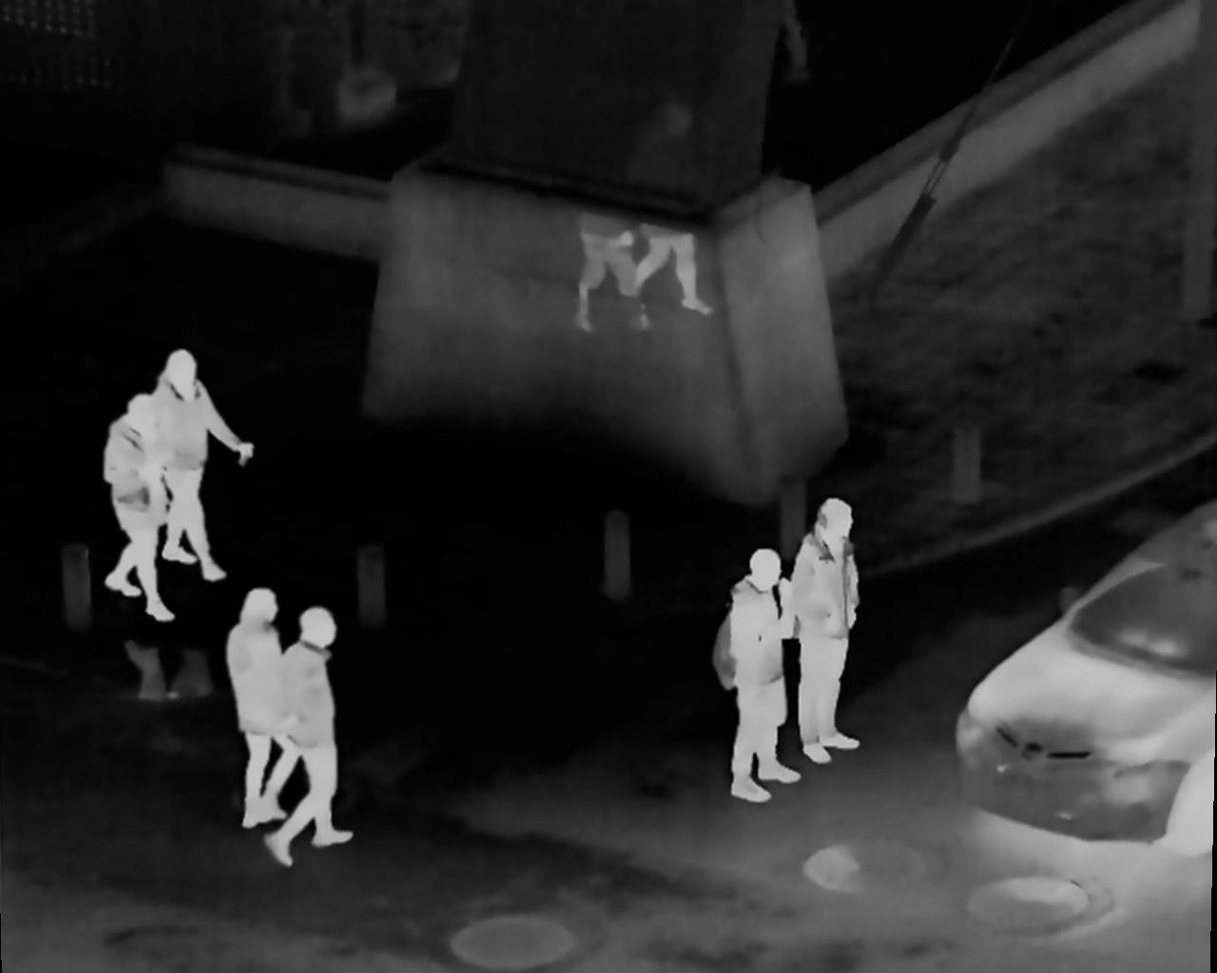person: (786, 488, 869, 756), (713, 547, 799, 796), (148, 346, 234, 579), (281, 600, 354, 854), (105, 400, 184, 619), (222, 587, 290, 829)
